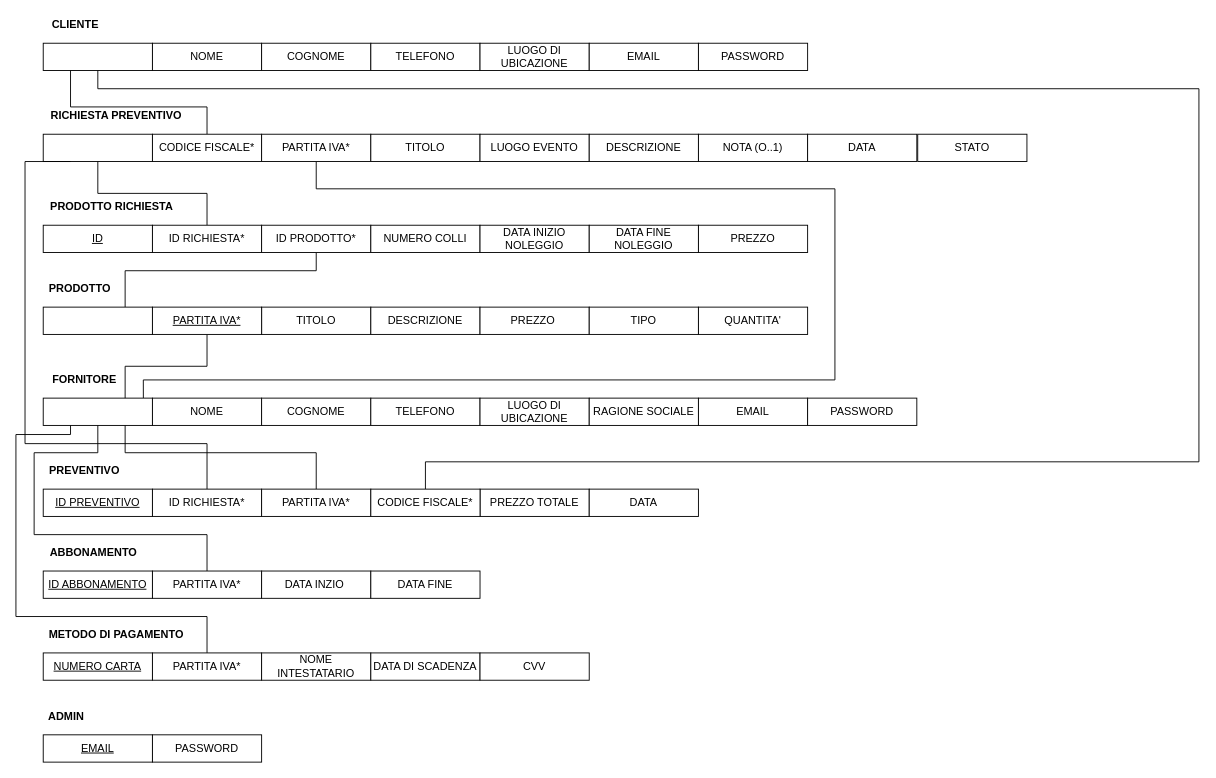
Some shapes in this 1216 by 778 pixel diagram are drawn without their labels. Here are the shapes that lost their labels. From the top down, the centre of each, then its label:
At (x=97, y=56): "CODICE FISCALE".
At (x=97, y=147): "ID RICHIESTA".
At (x=97, y=320): "ID PRODOTTO".
At (x=97, y=411): "PARTITA IVA".
